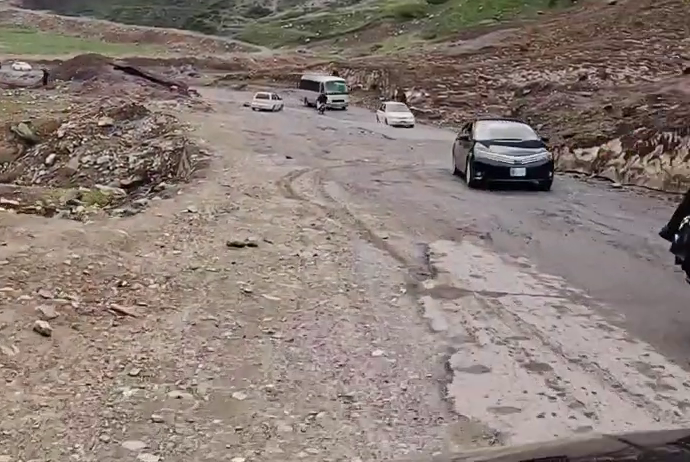unexpected: (80, 91, 270, 332)
